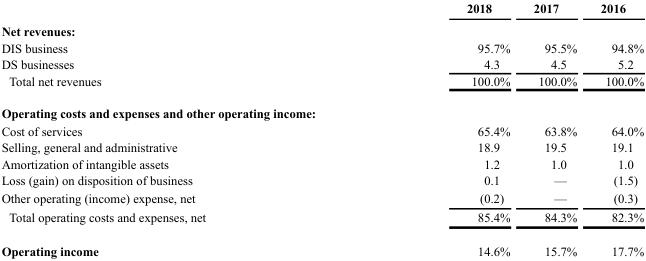table: (0, 1, 643, 257)
table column: (0, 1, 335, 257), (335, 1, 521, 257), (521, 1, 588, 257), (588, 1, 643, 257)
table column header: (0, 1, 643, 19)
table projected row header: (0, 96, 643, 121), (0, 19, 643, 39)
table row: (0, 207, 643, 233), (0, 96, 643, 121), (0, 72, 643, 96), (0, 233, 643, 257), (0, 19, 643, 39), (0, 188, 643, 207), (0, 1, 643, 19), (0, 55, 643, 72), (0, 121, 643, 138), (0, 138, 643, 155), (0, 171, 643, 188), (0, 39, 643, 55), (0, 155, 643, 171)
